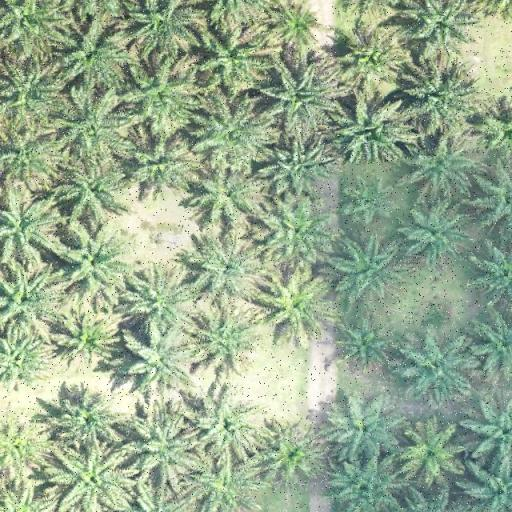Ganoderma: (272, 279, 327, 330), (408, 429, 455, 472)
